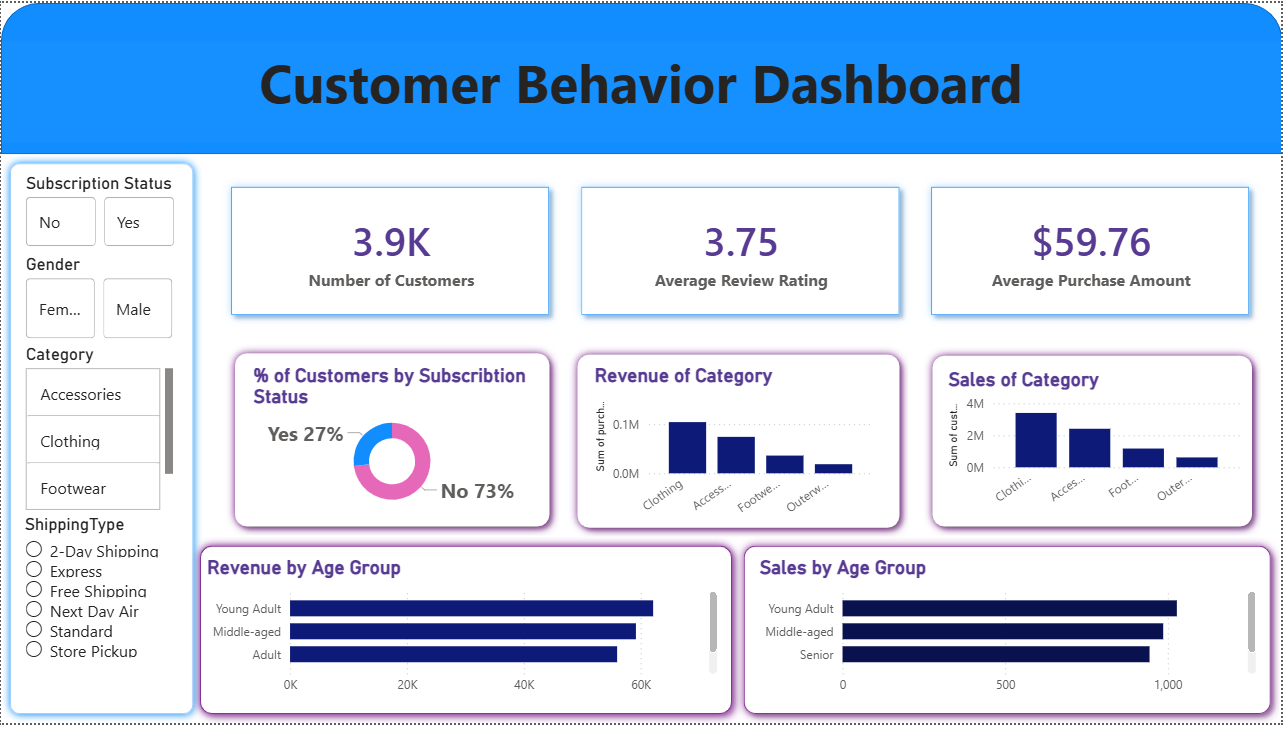

What the dashboard file says about the page in this screenshot:
{"tool":"powerbi","page":{"name":"Page 1","canvas":[1280,720],"ordinal":0},"visuals":[{"type":"cardVisual","fields":{"Data":["public customer.Number of Customers","public customer.Average Review Rating","public customer.Average Purchase Amount"]},"box":[201.2,155,1077.5,186.2],"z":0},{"type":"shape","box":[0,0,1281.2,151.2],"z":1000},{"type":"textbox","box":[0,37.5,1280,102.5],"z":2000},{"type":"shape","box":[225,341.2,332.5,191.2],"z":3000},{"type":"donutChart","title":"% of Customers by Subscribtion Status","fields":{"Category":["public customer.subscription_status"],"Y":["CountNonNull(public customer.customer_id)"]},"box":[247.5,361.2,287.5,151.2],"z":4000},{"type":"shape","box":[922.5,343.8,337.5,188.8],"z":5000},{"type":"shape","box":[567.5,342.5,340,191.2],"z":6000},{"type":"clusteredColumnChart","title":"Revenue of Category","fields":{"Category":["public customer.category"],"Y":["Sum(public customer.purchase_amount)"]},"box":[588.8,361.2,288.8,161.2],"z":7000},{"type":"clusteredColumnChart","title":"Sales of Category","fields":{"Y":["Sum(public customer.customer_id)"],"Category":["public customer.category"]},"box":[942.5,365,302.5,147.5],"z":8000},{"type":"shape","box":[0,151.2,201.2,568.8],"z":9000},{"type":"advancedSlicerVisual","fields":{"Values":["public customer.subscription_status"]},"box":[20,170,158.8,78.8],"z":10000},{"type":"advancedSlicerVisual","fields":{"Values":["public customer.gender"]},"box":[20,251.2,156.2,90],"z":11000},{"type":"listSlicer","fields":{"Values":["public customer.shipping_type"]},"box":[18.8,511.2,157.5,192.5],"z":12000},{"type":"advancedSlicerVisual","fields":{"Values":["public customer.category"]},"box":[20,341.2,157.5,171.2],"z":12001},{"type":"shape","box":[225,533.8,526.2,186.2],"z":12003},{"type":"clusteredBarChart","title":"Revenue by Age Group","fields":{"Y":["Sum(public customer.purchase_amount)"],"Category":["public customer.age_group"]},"box":[247.5,555,492.5,146.2],"z":12004},{"type":"shape","box":[751.2,533.8,508.8,186.2],"z":12005},{"type":"clusteredBarChart","title":"Sales by Age Group","fields":{"Y":["CountNonNull(public customer.customer_id)"],"Category":["public customer.age_group"]},"box":[773.8,555,461.2,146.2],"z":12006}]}

Visuals, with their boxes in screenshot pixels (x1, y1, x2, y2), scaled from the page's 1280x720 canvas onto the 1283x731 screenshot:
cardVisual - public customer.Number of Customers x public customer.Average Review Rating: box(202, 157, 1282, 346)
shape: box(0, 0, 1282, 154)
textbox: box(0, 38, 1282, 142)
shape: box(226, 346, 559, 541)
"% of Customers by Subscribtion Status" donutChart: box(248, 367, 536, 520)
shape: box(925, 349, 1263, 541)
shape: box(569, 348, 910, 542)
"Revenue of Category" clusteredColumnChart: box(590, 367, 880, 530)
"Sales of Category" clusteredColumnChart: box(945, 371, 1248, 520)
shape: box(0, 154, 202, 730)
advancedSlicerVisual - public customer.subscription_status: box(20, 173, 179, 253)
advancedSlicerVisual - public customer.gender: box(20, 255, 177, 346)
listSlicer - public customer.shipping_type: box(19, 519, 177, 714)
advancedSlicerVisual - public customer.category: box(20, 346, 178, 520)
shape: box(226, 542, 753, 730)
"Revenue by Age Group" clusteredBarChart: box(248, 563, 742, 712)
shape: box(753, 542, 1263, 730)
"Sales by Age Group" clusteredBarChart: box(776, 563, 1238, 712)
